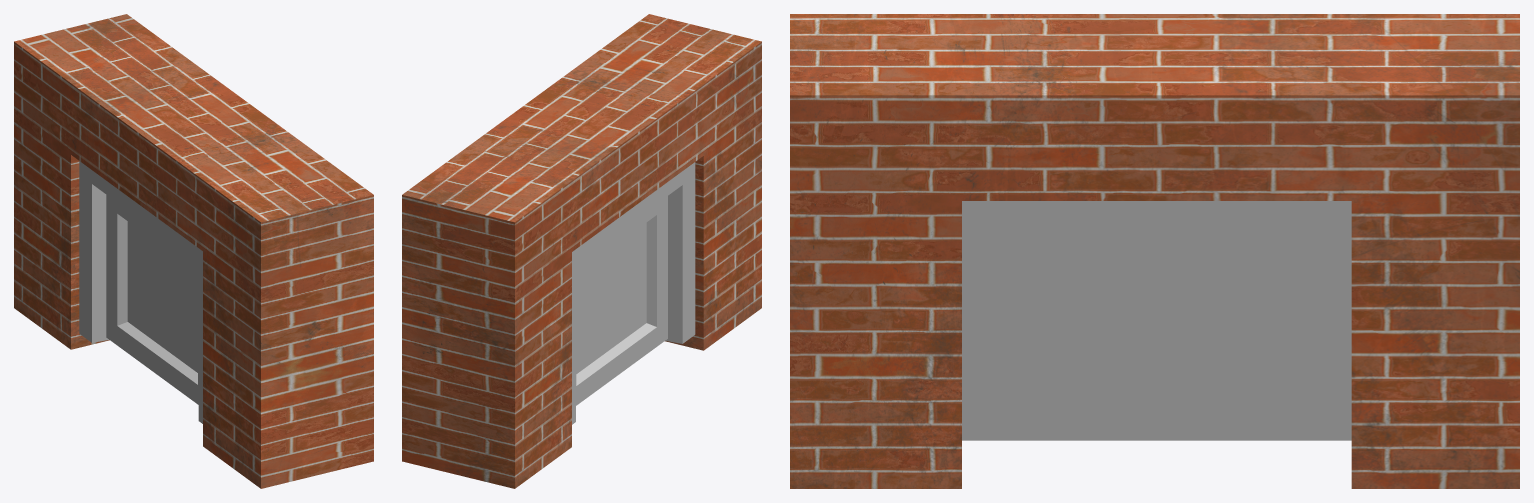
File: SM_Gidan00S.fbx
3 views of the same model, side by side, from view 1: azimuth 30°, elevation 25°; view 2: azimuth 150°, elevation 25°; view 3: azimuth 270°, elevation 25° (orthographic). The views are drawn at different scales.
Parts seen in each view (by area): view 1: SM_Gidan00S; view 2: SM_Gidan00S; view 3: SM_Gidan00S.
Part boxes in pixels (x1,y1,x2,y2): SM_Gidan00S: (14,14,373,488); SM_Gidan00S: (402,14,761,488); SM_Gidan00S: (790,14,1519,488).
Size of the model in its own units: 21.06 by 79.87 by 47.53.
